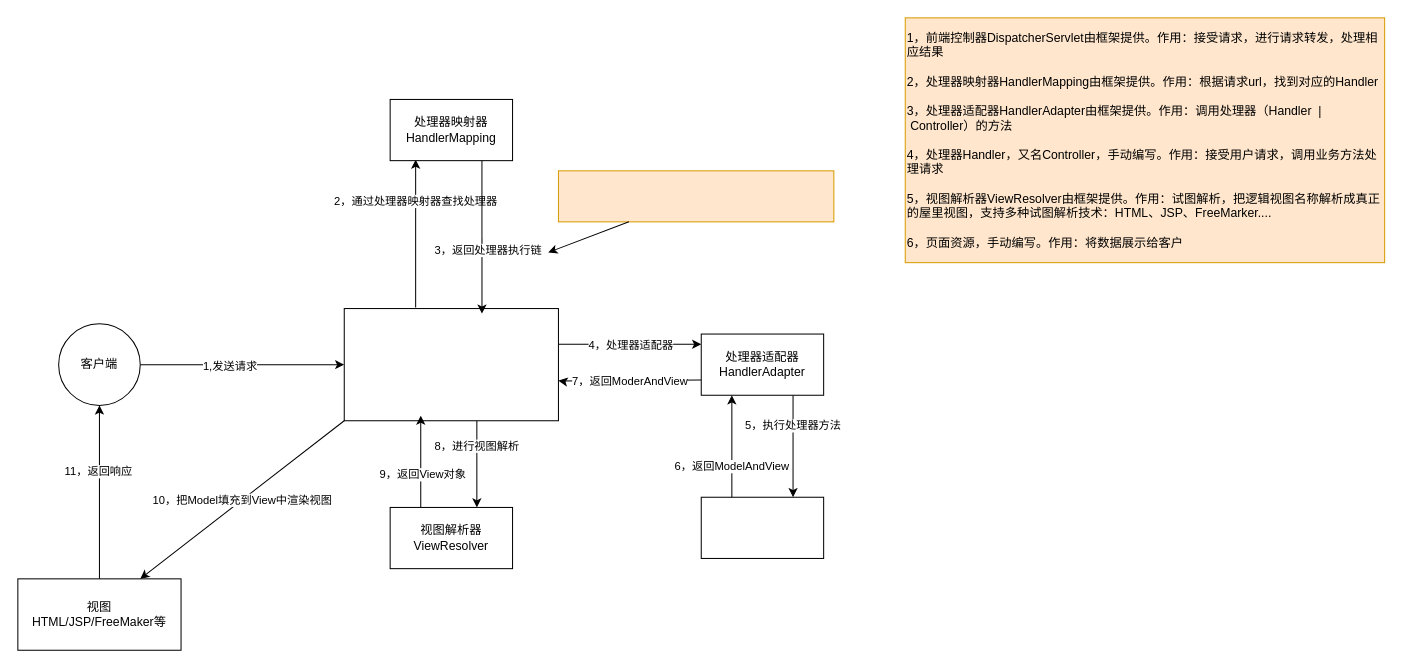
Image size: 1403x668. Some labels were removed from this diagram. The centre of each missing label's shape, as x and y in pixels:
"Handler（处理器） 又名Controller" goes at point 762,527.
"前端控制器 DispatcherServlet" goes at point 450,364.
"处理器执行链-HandlerExecutionChain 包含HandlerInterceptor和Handler" goes at point 695,196.
